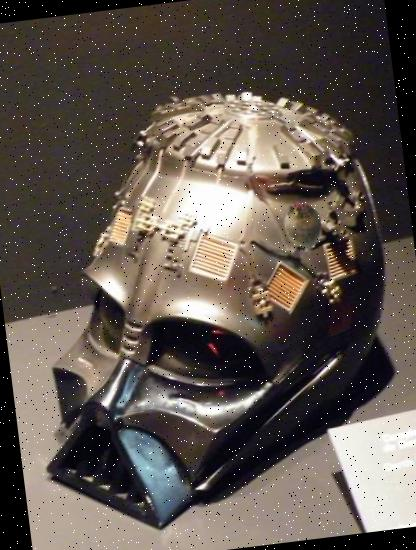Beetroot: (270, 194, 336, 260)
